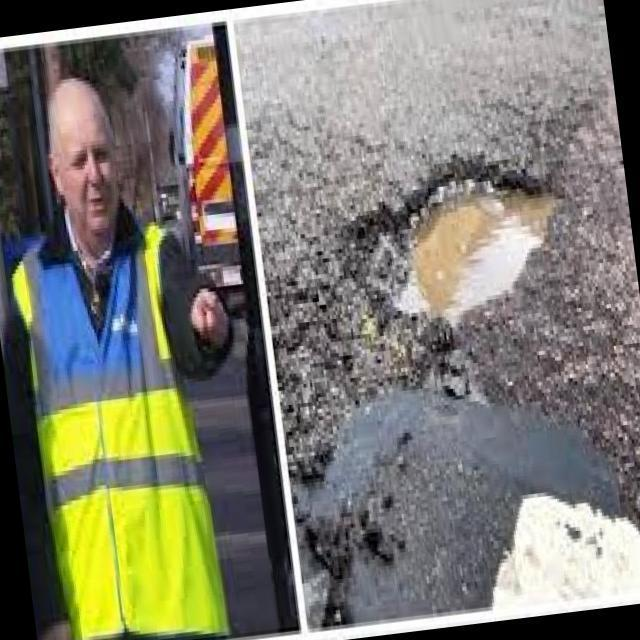Pothole: (366, 162, 562, 330)
